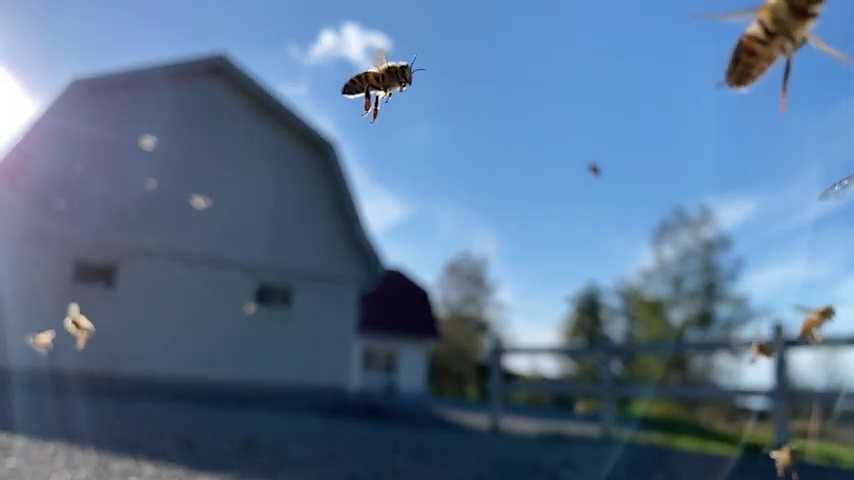insect: (693, 1, 852, 114), (337, 54, 422, 120), (792, 302, 838, 349)
